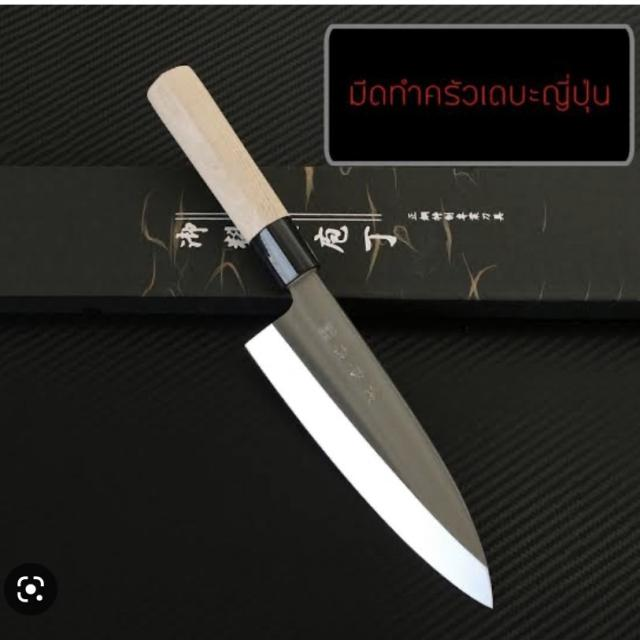knife: (117, 57, 506, 615)
